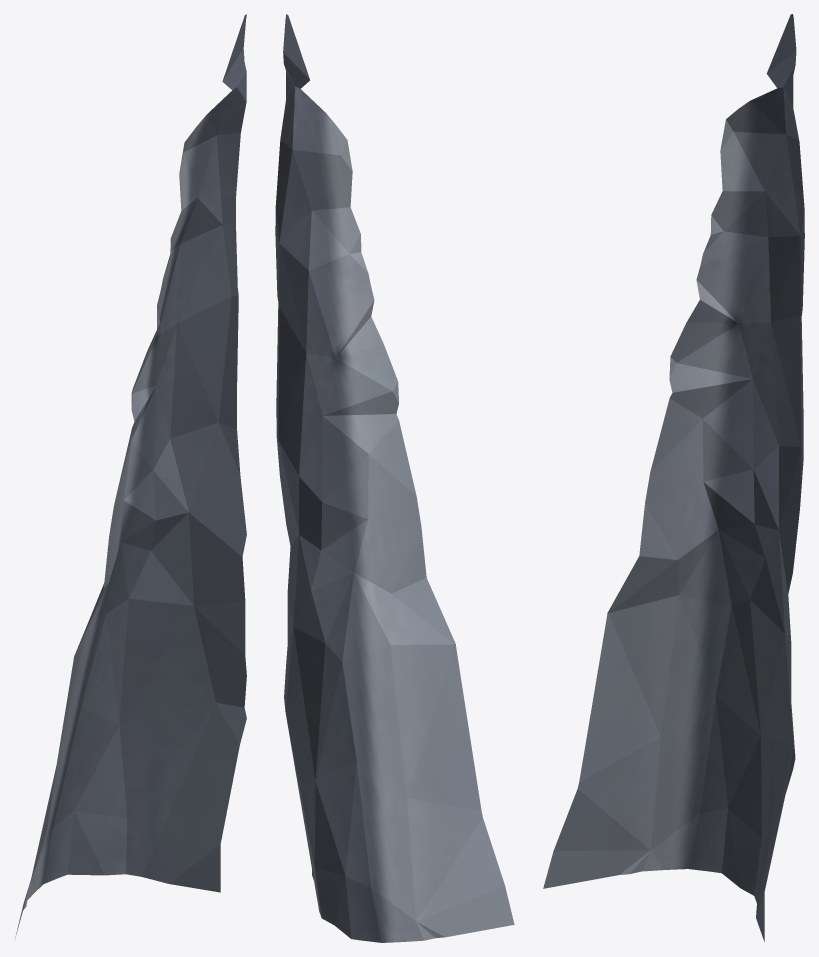
3 views of the same model, side by side, from view 1: azimuth 30°, elevation 25°; view 2: azimuth 150°, elevation 25°; view 3: azimuth 330°, elevation 25° (orthographic). The views are drawn at different scales.
Size of the model in its own units: 0.1388 by 0.4966 by 0.0584.
Materials: 1 (1 with a texture image).
